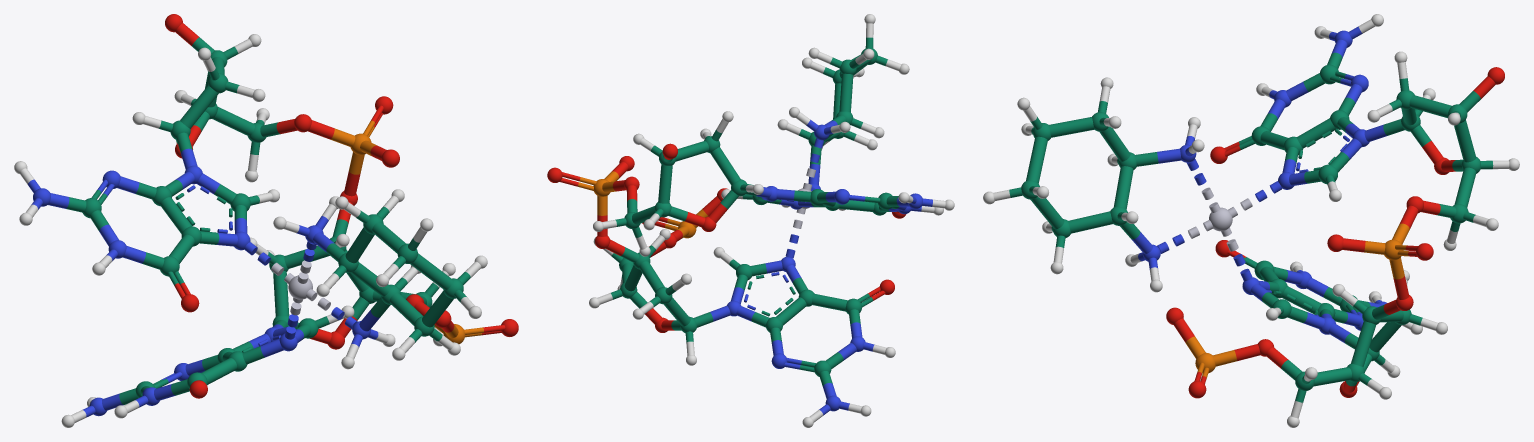
Rendered from oxaliplatin-model.glb.
3 renders of one model, left to right at view 1: azimuth 30°, elevation 25°; view 2: azimuth 150°, elevation 25°; view 3: azimuth 270°, elevation 25°, orthographic. The views are drawn at different scales.
Bounding box in the file's own units: 12.5 × 9.43 × 13.87.
